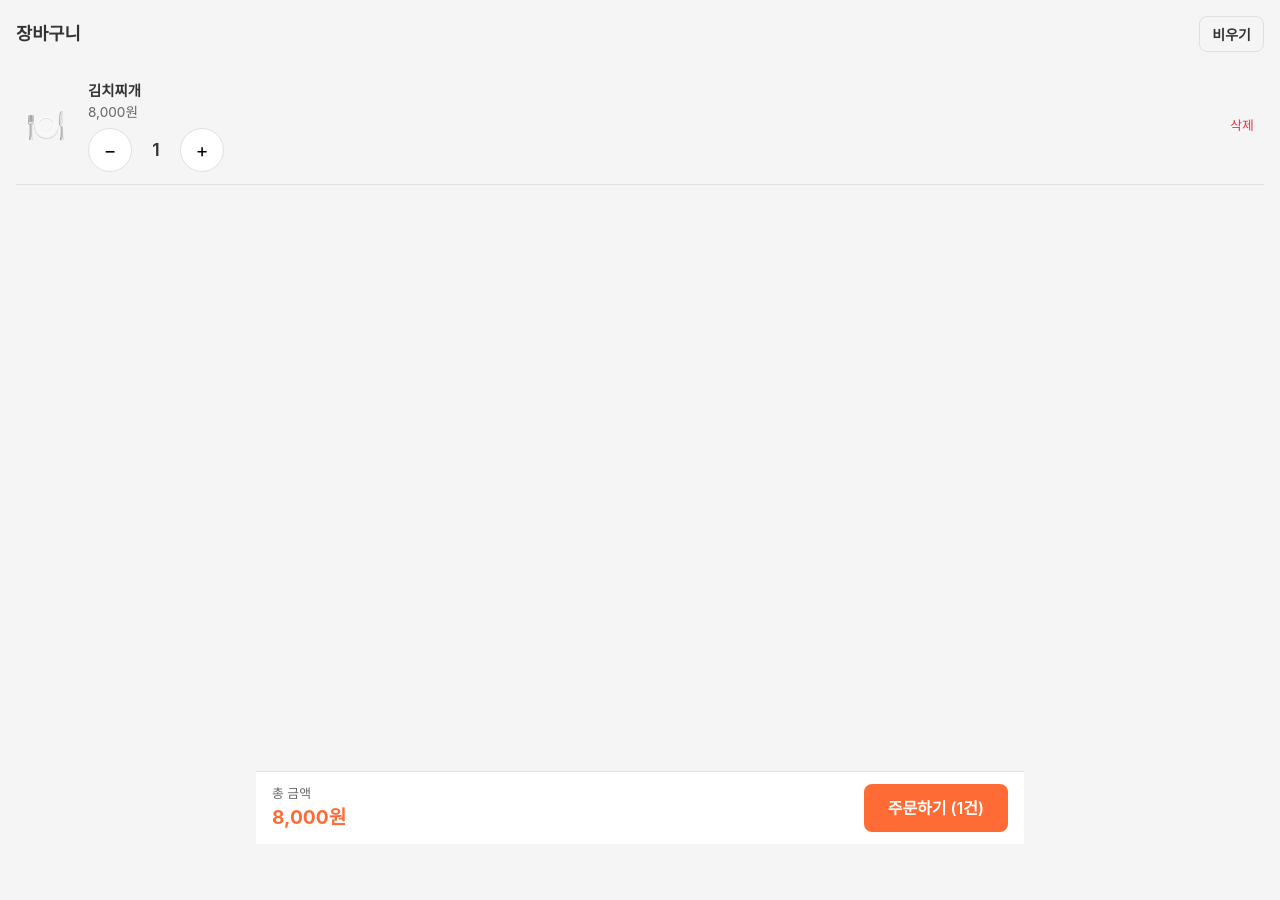
US-401: CartPage — 주문 확정 › 비우기 버튼으로 장바구니를 비울 수 있다
Click the button "비우기" at (1232, 34), box x1=1199 y1=16 x2=1264 y2=52
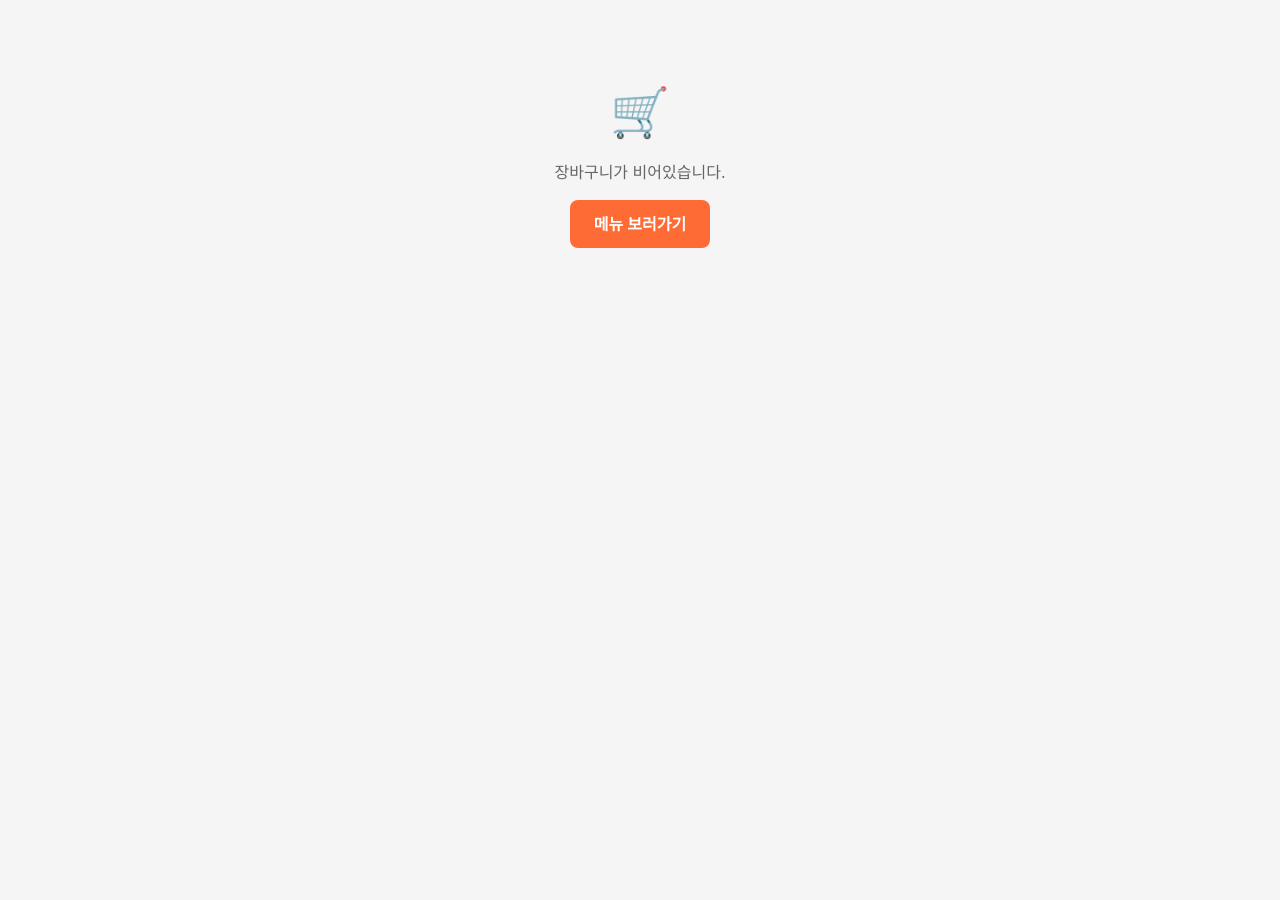
Now the text "장바구니가 비어있습니다." is shown, box x1=554 y1=162 x2=726 y2=182
